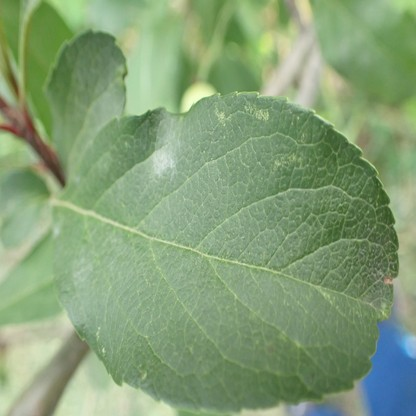frogeye_leaf_spot: (384, 275, 392, 284)
powdery_mildew: (153, 150, 176, 179), (73, 258, 90, 284)
